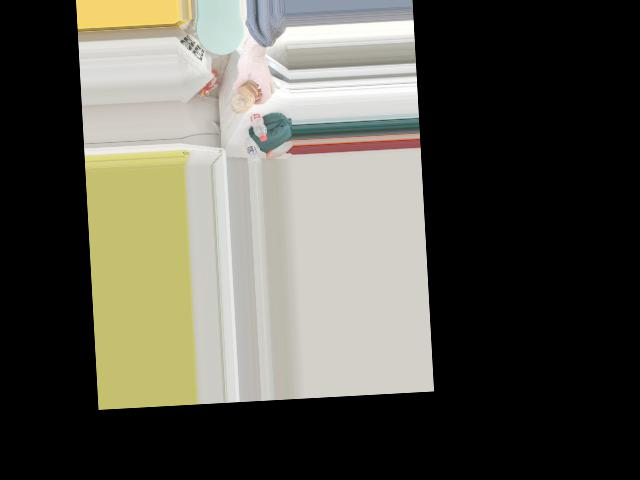sweet_potato: (230, 79, 259, 115)
